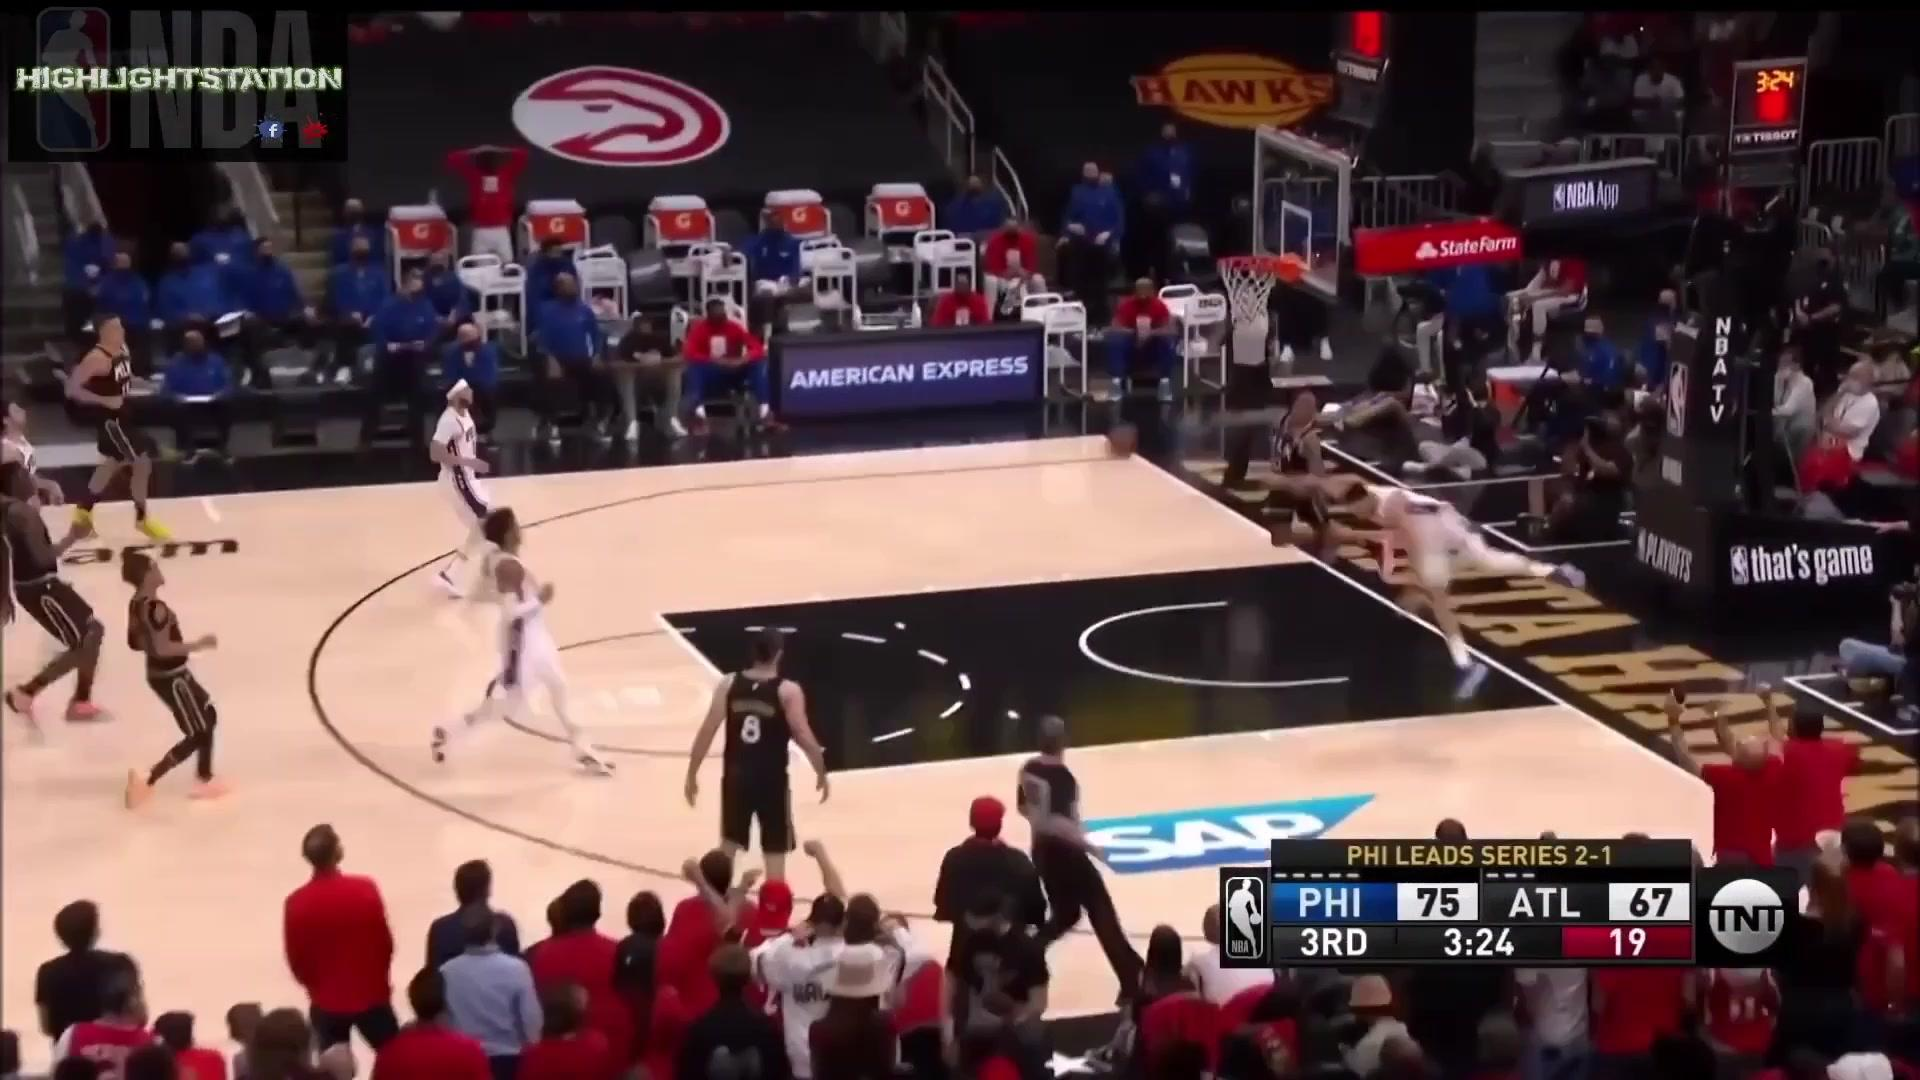no_foul: (1233, 384, 1576, 674)
